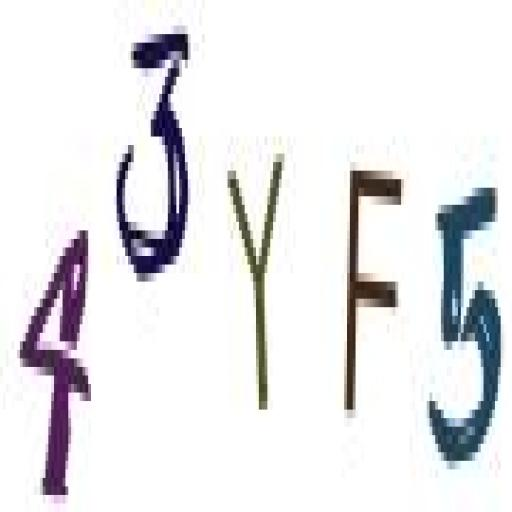3: (117, 28, 198, 300)
4: (14, 204, 98, 506)
5: (426, 177, 504, 489)
F: (342, 148, 406, 431)
Y: (222, 142, 293, 426)
